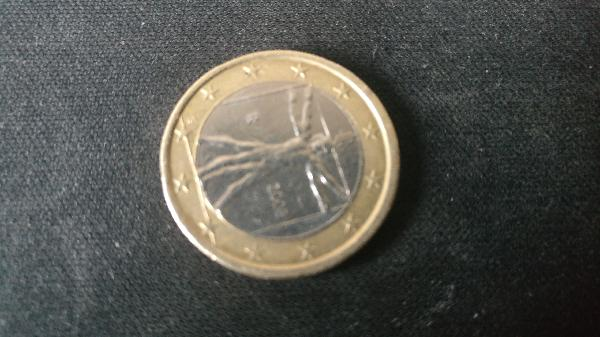One Euro: (157, 48, 410, 284)
